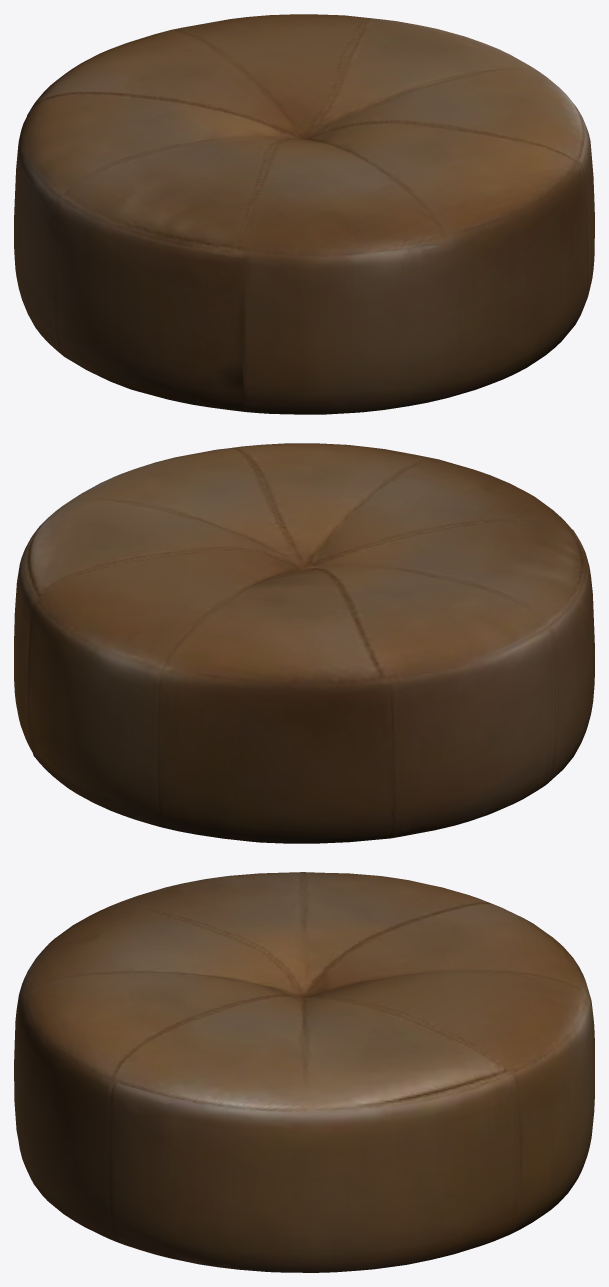
The picture shows the model from 3 angles, top to bottom: view 1: azimuth 30°, elevation 25°; view 2: azimuth 150°, elevation 25°; view 3: azimuth 270°, elevation 25°; orthographic projection.
Parts seen in each view (by area): view 1: geometry_0; view 2: geometry_0; view 3: geometry_0.
Boxes of the visible parts, x1,y1,x2,y2 form: geometry_0: (14, 14, 594, 414); geometry_0: (14, 443, 594, 843); geometry_0: (14, 872, 594, 1272).
Size of the model in its own units: 0.9994 by 0.3646 by 0.9995.
1 material, 1 textured.
